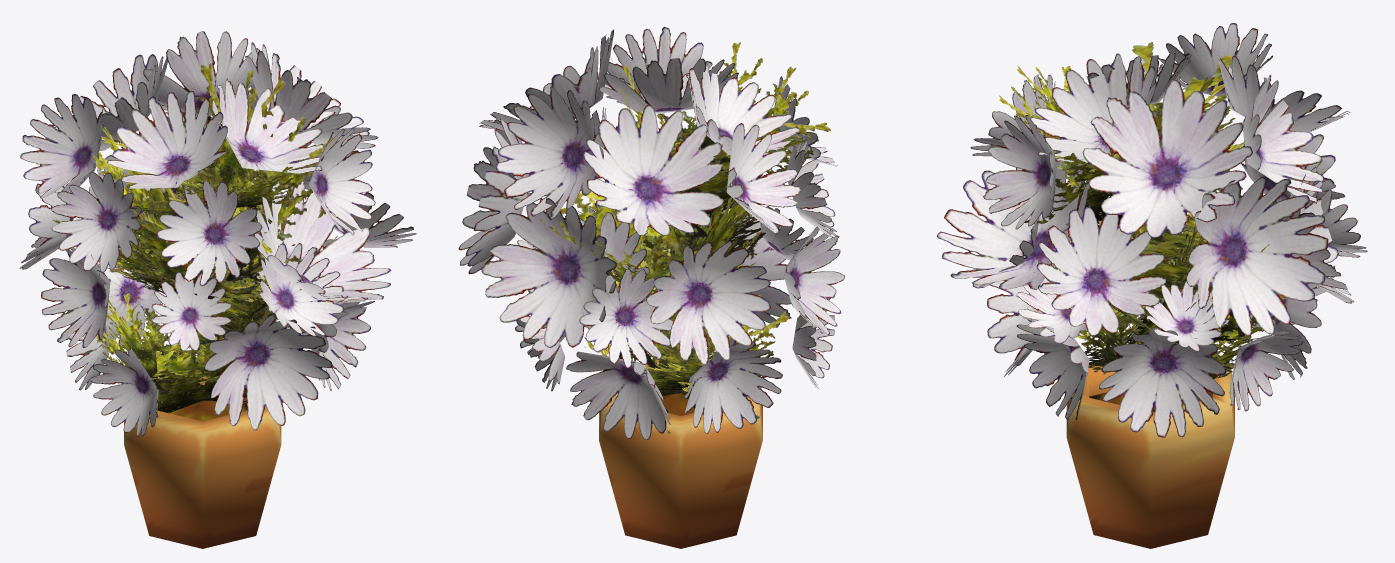
The model's file is flower_pot_white_2.DAE.
3 views of the same model, side by side, from view 1: azimuth 30°, elevation 25°; view 2: azimuth 150°, elevation 25°; view 3: azimuth 270°, elevation 25° (orthographic). The views are drawn at different scales.
Parts seen in each view (by area): view 1: Plane01; view 2: Plane01; view 3: Plane01.
Boxes of the visible parts, x1,y1,x2,y2 form: Plane01: [19, 31, 416, 548]; Plane01: [458, 26, 844, 548]; Plane01: [937, 23, 1367, 548].
Size of the model in its own units: 0.8945 by 1.14 by 0.9698.
